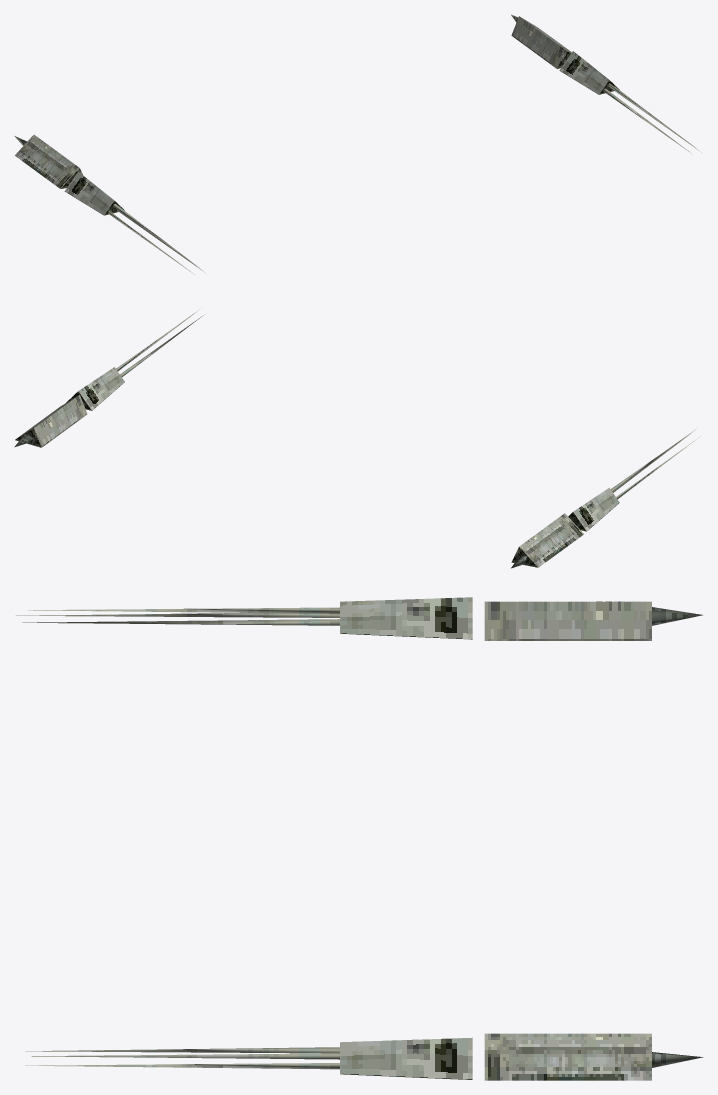
Rendered from z95_weapon_s04_l3.fbx.
3 views of the same model, one above another, from view 1: azimuth 30°, elevation 25°; view 2: azimuth 150°, elevation 25°; view 3: azimuth 270°, elevation 25° (orthographic). The views are drawn at different scales.
Parts seen in each view (by area): view 1: mesh_node; view 2: mesh_node; view 3: mesh_node.
Part boxes in pixels (box(x1,y1,x2,y2)): mesh_node: box(14, 14, 701, 274); mesh_node: box(14, 309, 700, 568); mesh_node: box(16, 597, 703, 1080).
Bounding box in the file's own units: 14.48 × 0.4698 × 9.05.
Materials: 1 (1 with a texture image).
